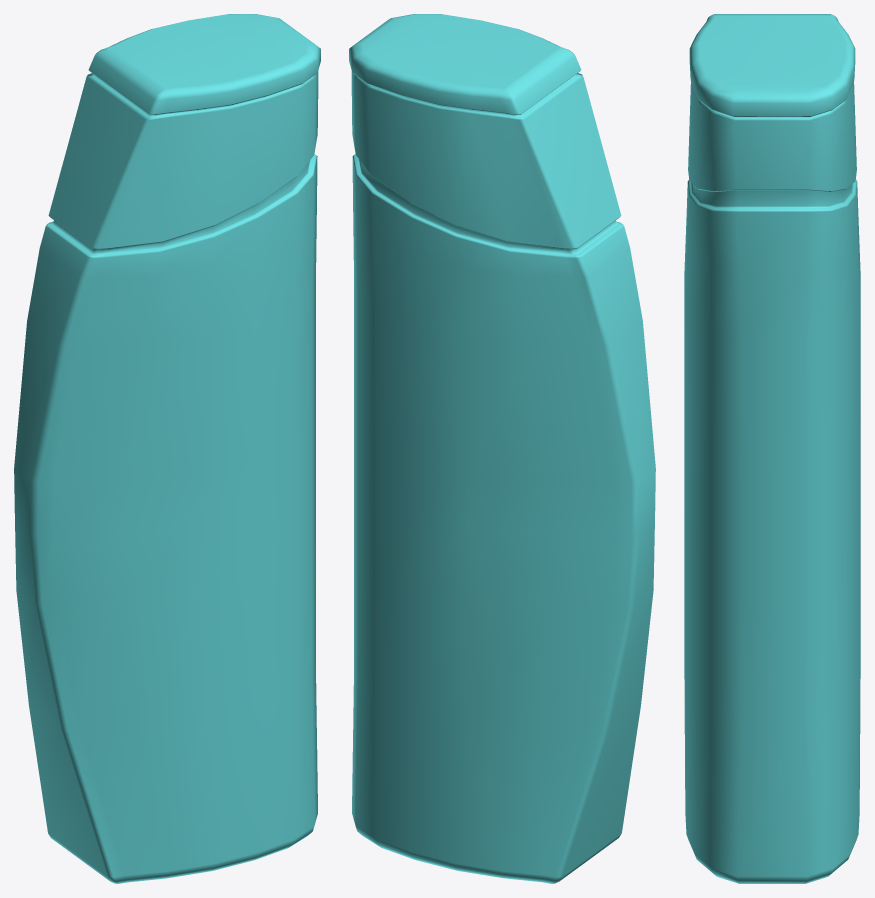
The model's file is Hair shampoo bottle.fbx.
3 renders of one model, left to right at view 1: azimuth 30°, elevation 25°; view 2: azimuth 150°, elevation 25°; view 3: azimuth 270°, elevation 25°, orthographic.
Visible parts, largest first — view 1: xiangpu; view 2: xiangpu; view 3: xiangpu.
Part boxes in pixels (bbox=[...]): xiangpu: bbox=[14, 14, 320, 883]; xiangpu: bbox=[349, 14, 655, 883]; xiangpu: bbox=[684, 14, 860, 883].
Bounding box in the file's own units: 0.0657 × 0.1761 × 0.0356.
